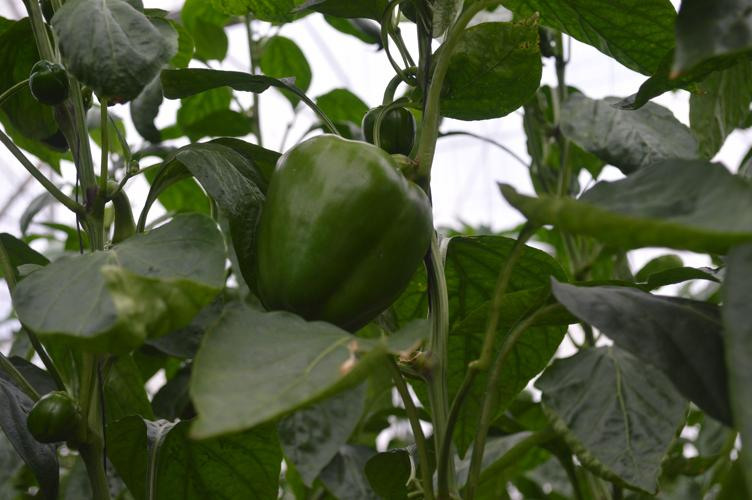BellPepper: (254, 135, 435, 331), (21, 391, 75, 449), (362, 104, 417, 153)
